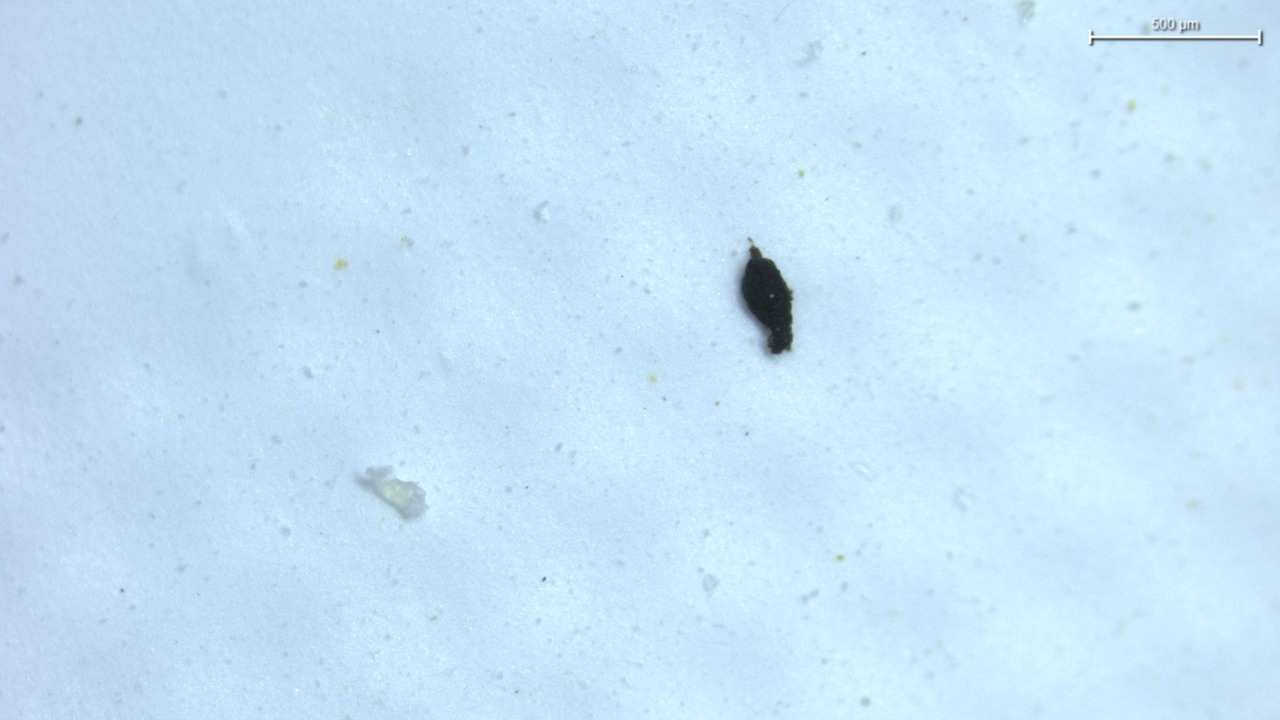microplastic_fragment: (741, 244, 793, 354), (355, 466, 427, 519)
